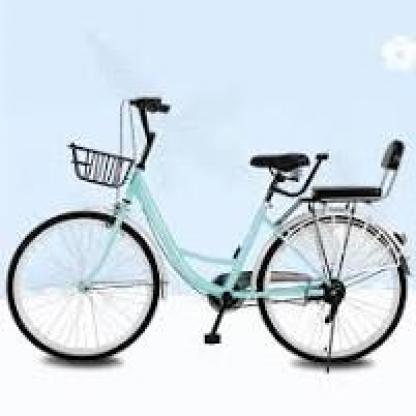Bike: (7, 94, 416, 374)
